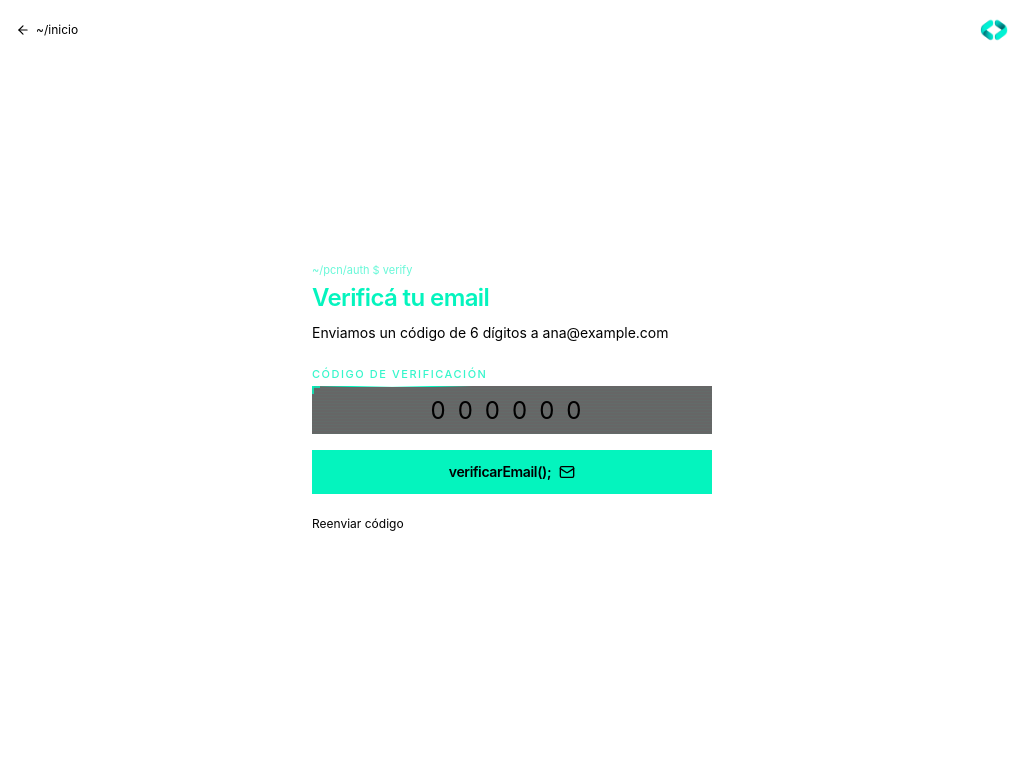
Test: VerifyEmailPage › resends a code once the cooldown is over
The image size is (1024, 768).
Click the button "Reenviar código" at (358, 524), box [312,516,404,532]
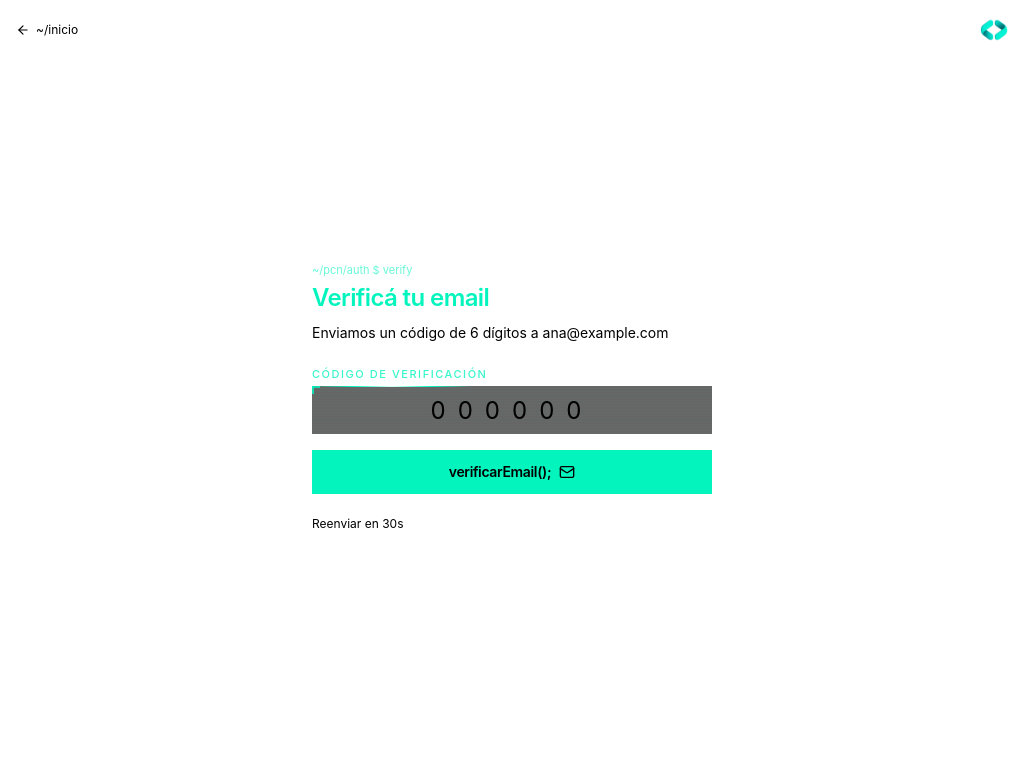
Now the button "Reenviar en 30s" is disabled, box [312,516,404,532]
